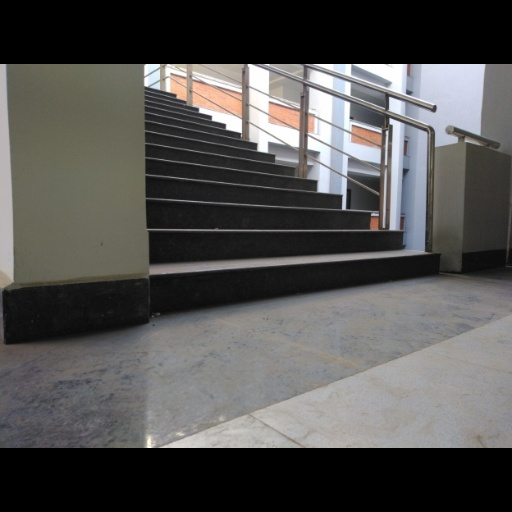Stairs: (146, 88, 438, 311)
